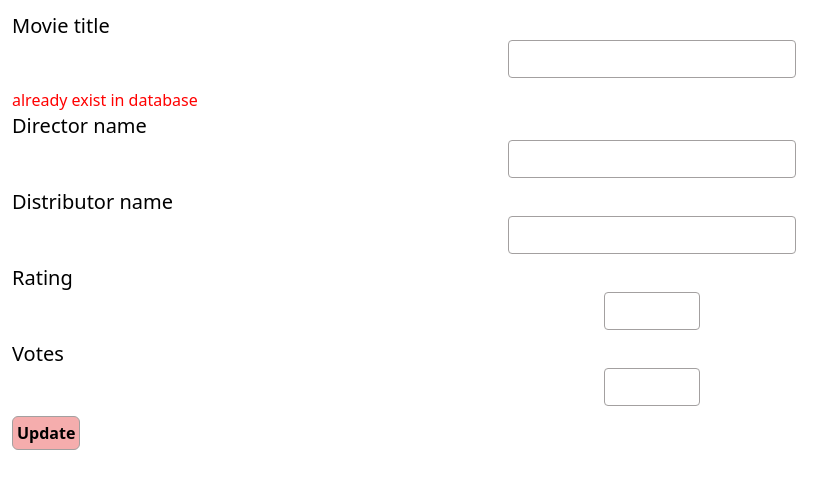
Test: Test Edit Movie Form Component › validation rating value more that 10 should be trigered
Type "11.1" into the number field with test id "rating" at (652, 311), box [604,292,700,330]
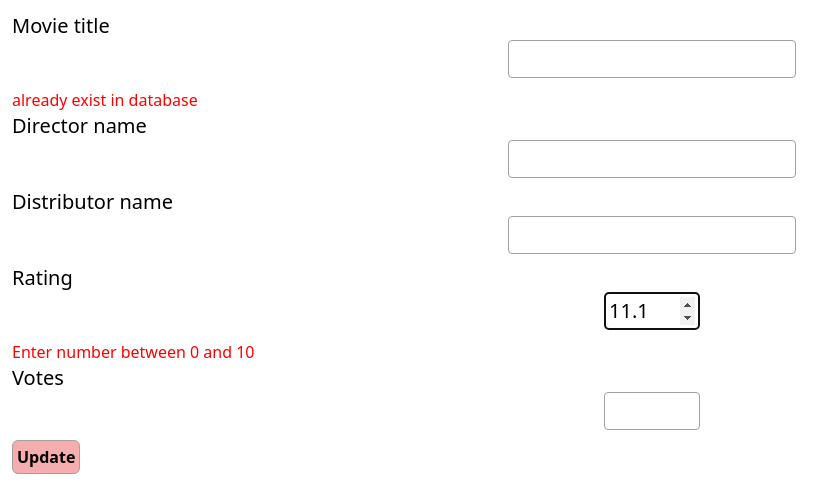
Check: the text with test id "ratingError" reads "Enter number between 0 and 10", box [12,341,254,363]
